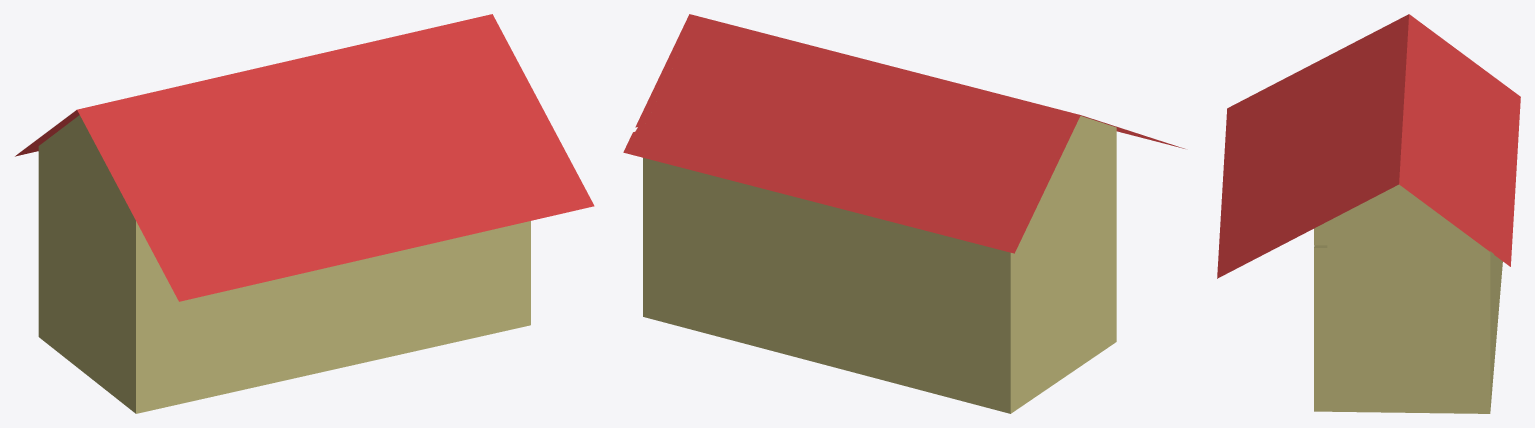
3 views of the same model, side by side, from view 1: azimuth 30°, elevation 25°; view 2: azimuth 150°, elevation 25°; view 3: azimuth 270°, elevation 25° (orthographic). The views are drawn at different scales.
Size of the model in its own units: 13.62 by 10.08 by 8.49.
